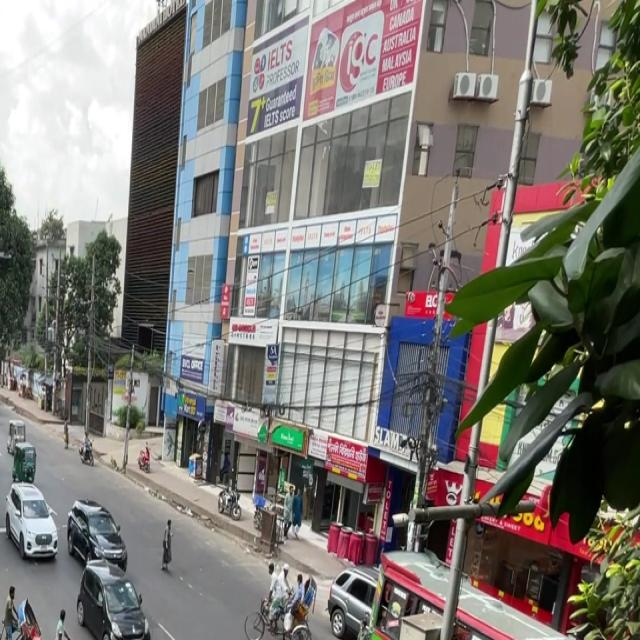car: (72, 562, 156, 640), (63, 495, 132, 578), (0, 479, 63, 566), (318, 563, 388, 640), (0, 422, 3, 478)
motorbike: (135, 439, 156, 479)
rickshaw: (8, 431, 40, 484)
